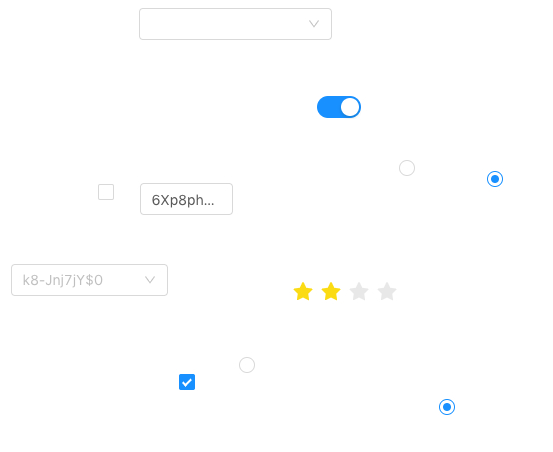Checkbox: (98, 181, 114, 202), (179, 371, 195, 392)
Input: (140, 183, 233, 215)
Radio: (239, 354, 255, 374), (439, 396, 455, 416), (399, 157, 415, 177), (487, 168, 503, 188)
Rate: (293, 275, 413, 307)
Select: (139, 8, 332, 40), (11, 264, 168, 296)
Switch: (317, 95, 361, 119)
